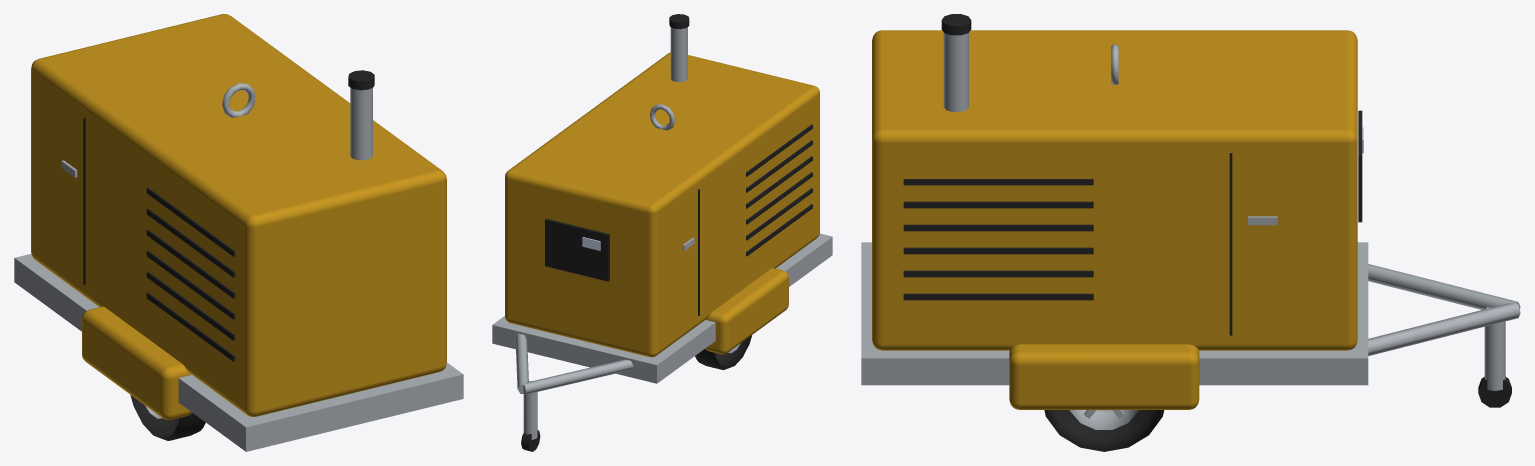
The model's file is GENERATOR.glb.
3 renders of one model, left to right at view 1: azimuth 30°, elevation 25°; view 2: azimuth 150°, elevation 25°; view 3: azimuth 270°, elevation 25°, orthographic. The views are drawn at different scales.
Parts seen in each view (by area): view 1: paint_0, steel_1, tread_2; view 2: paint_0, steel_1, tread_2; view 3: paint_0, steel_1, tread_2.
Part boxes in pixels (x1,y1,x2,y2): paint_0: (31,14,446,419); steel_1: (14,83,463,451); tread_2: (83,70,374,440); paint_0: (505,52,819,357); steel_1: (492,27,832,439); tread_2: (521,14,812,451); paint_0: (872,30,1357,409); steel_1: (861,32,1520,429); tread_2: (903,14,1511,451).
Size of the model in its own units: 1.46 by 2.15 by 3.12.
